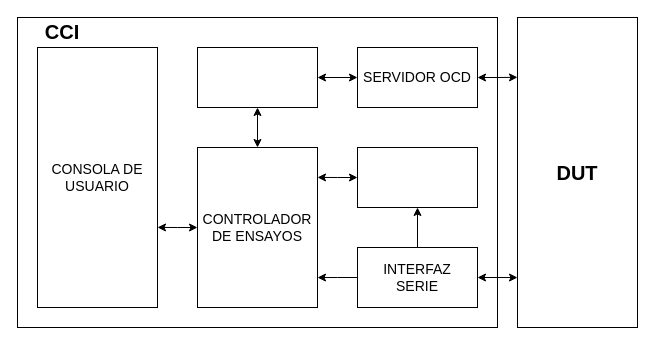
The diagram is 655 pixels wide and 345 high, and some of its shapes have lost their labels. The centre of each missing label's shape, as x and y in pixels:
OCD API: (x=257, y=77)
PERSISTENCIA DE DATOS: (x=417, y=177)
